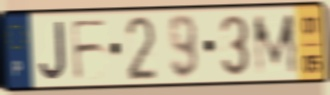2: (123, 14, 159, 84)
3: (217, 13, 251, 79)
9: (167, 12, 201, 83)
F: (69, 17, 111, 83)
J: (38, 19, 69, 83)
M: (251, 10, 301, 78)
